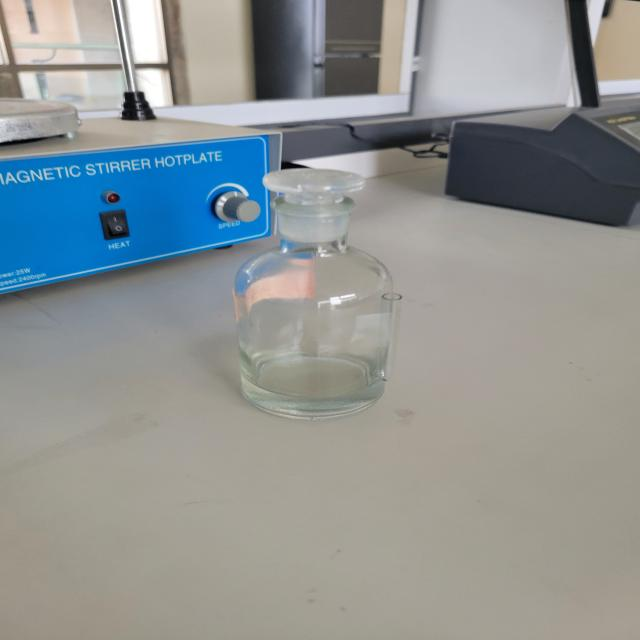Reagent_Bottle: (157, 136, 448, 444)
